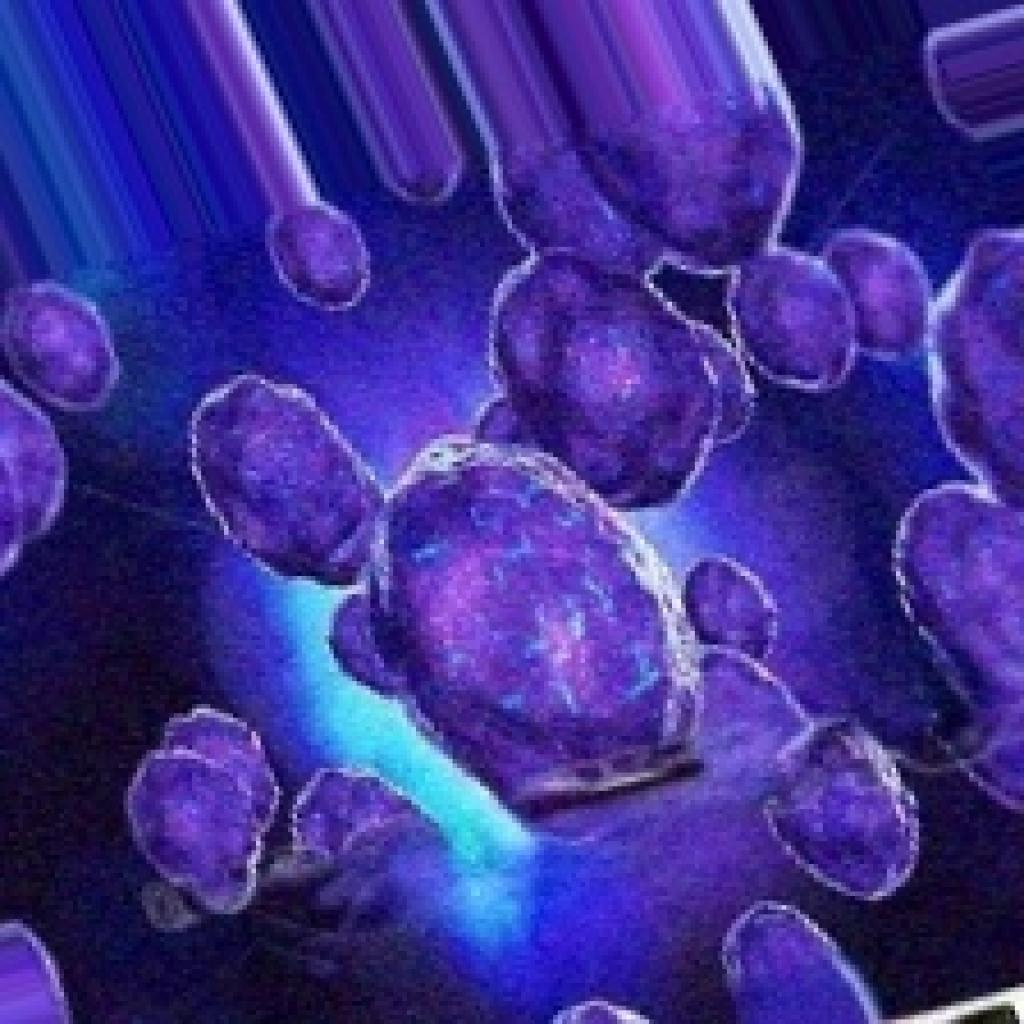Sphericalbacteria: (0, 86, 1019, 1019)
